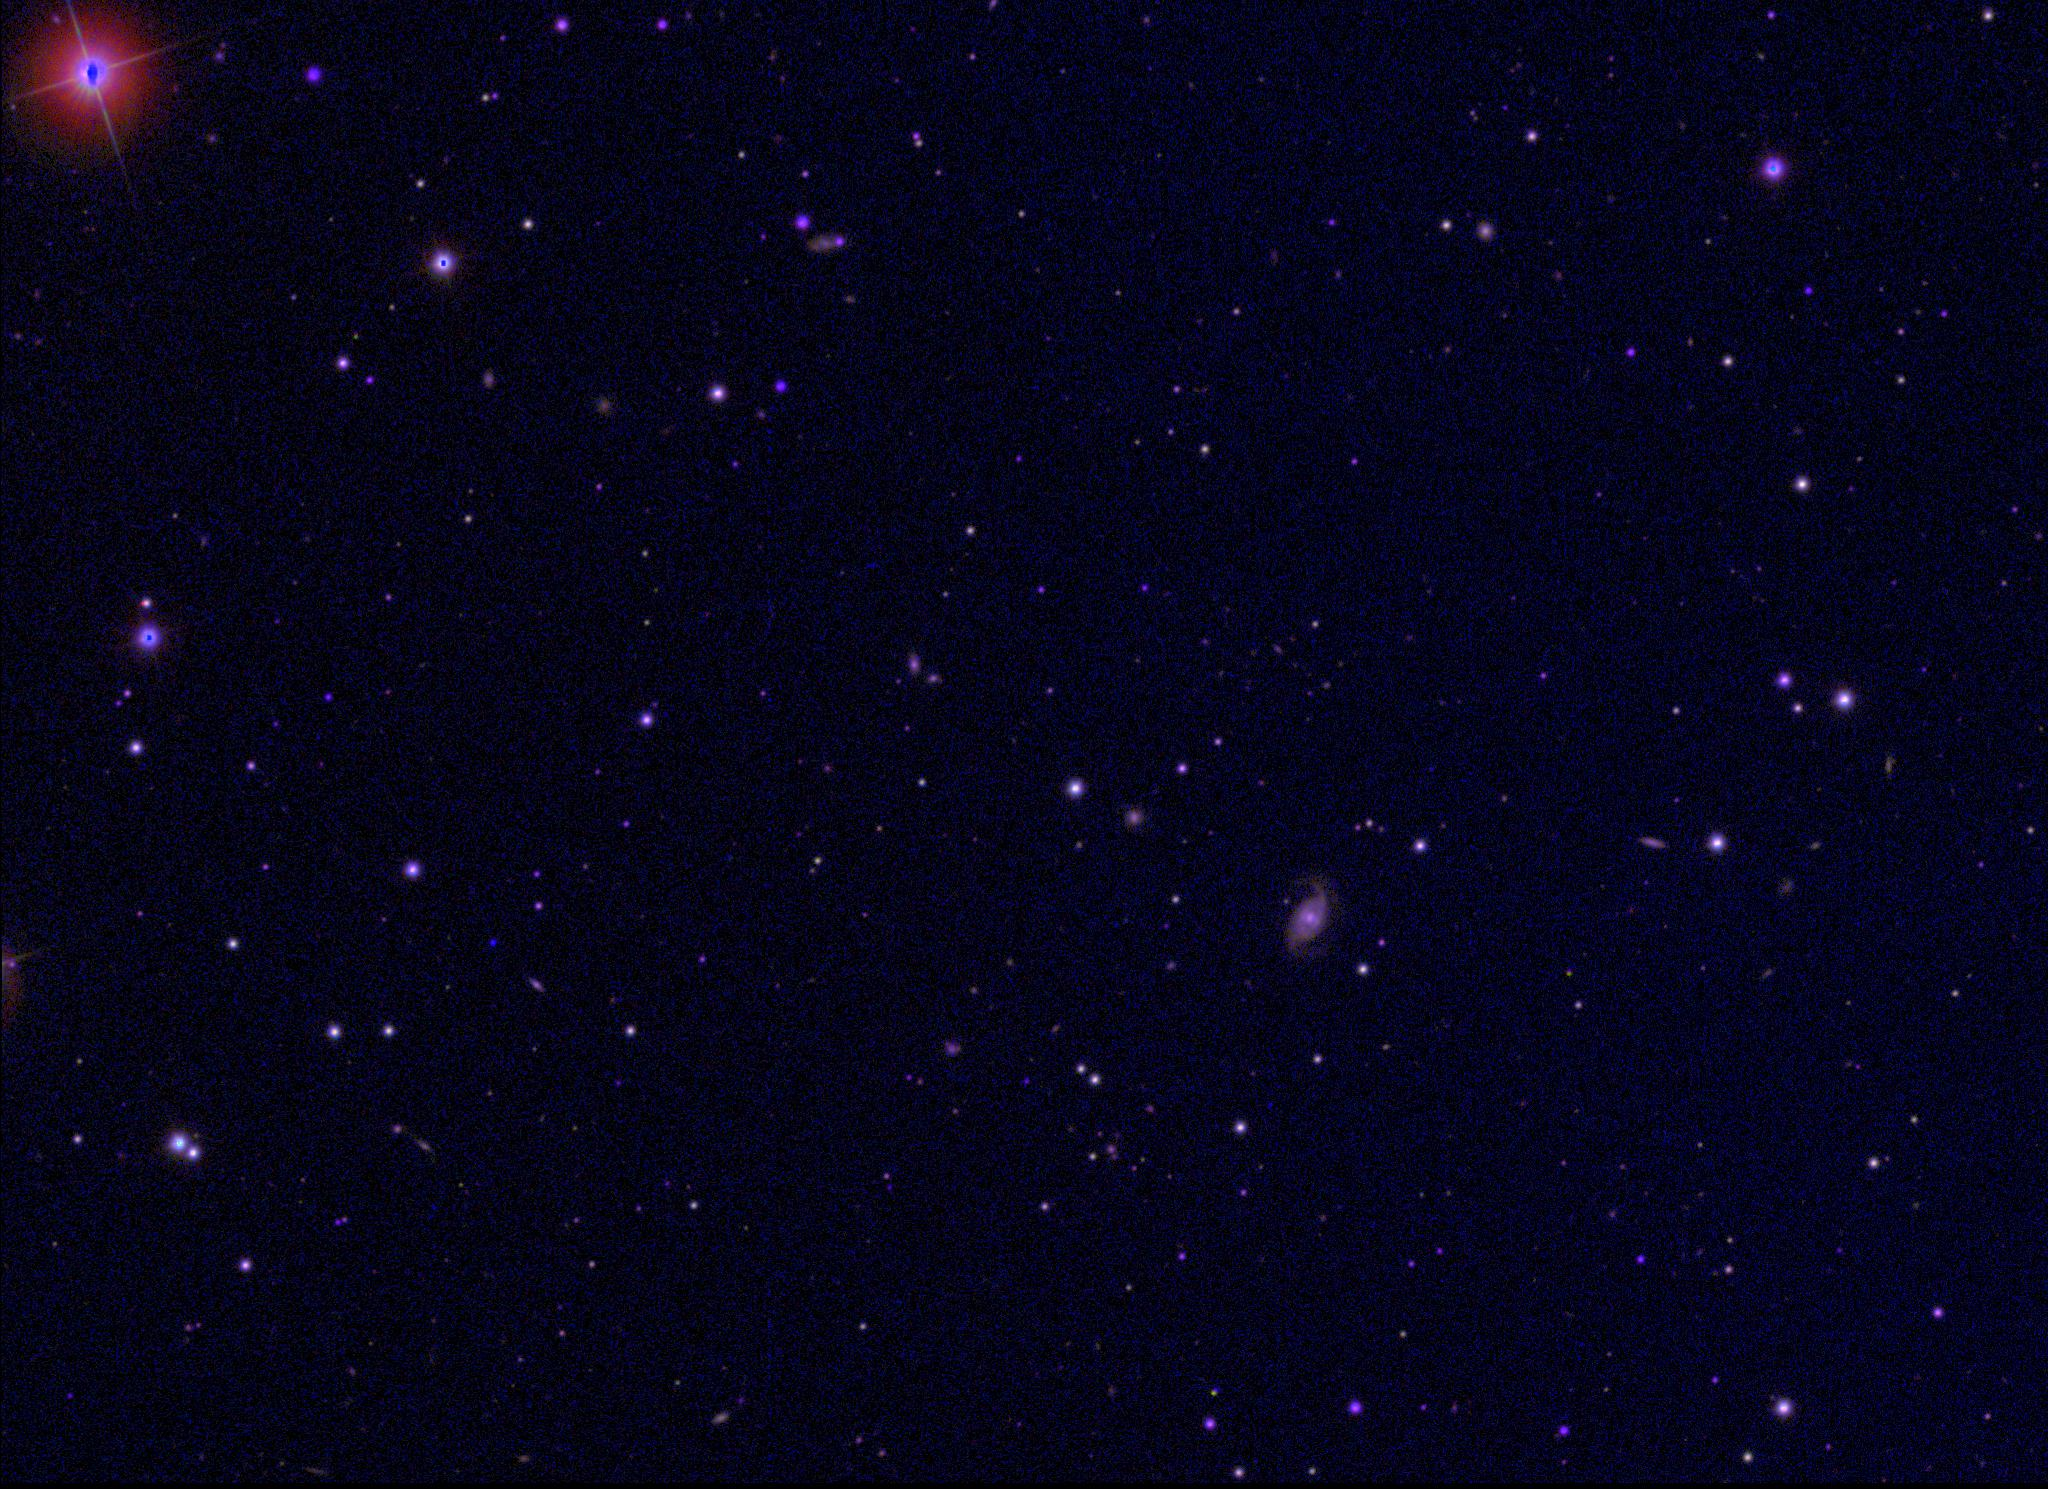L: (487, 935, 499, 950)
